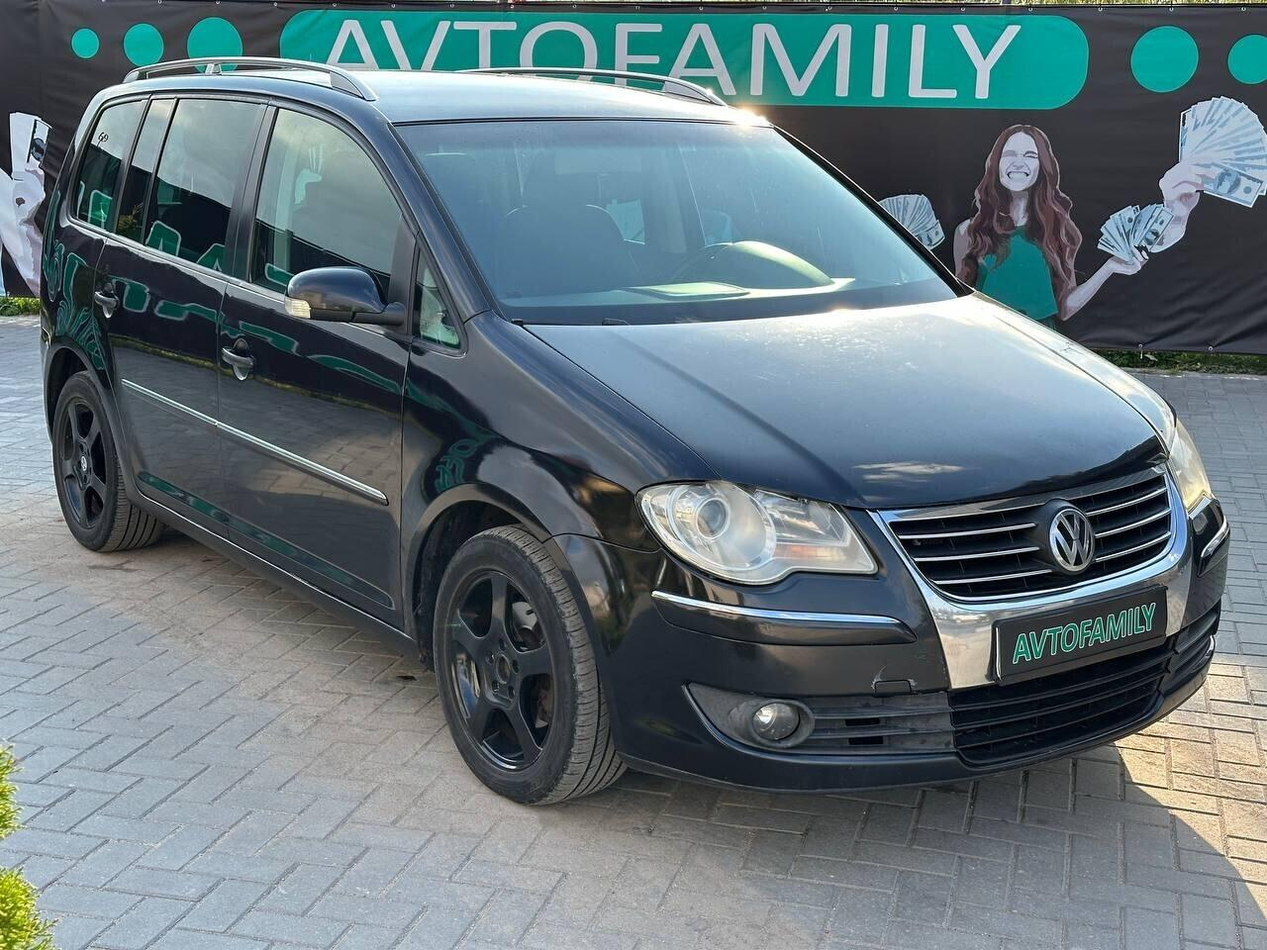Touran_2006-2010: (36, 63, 1230, 808)
